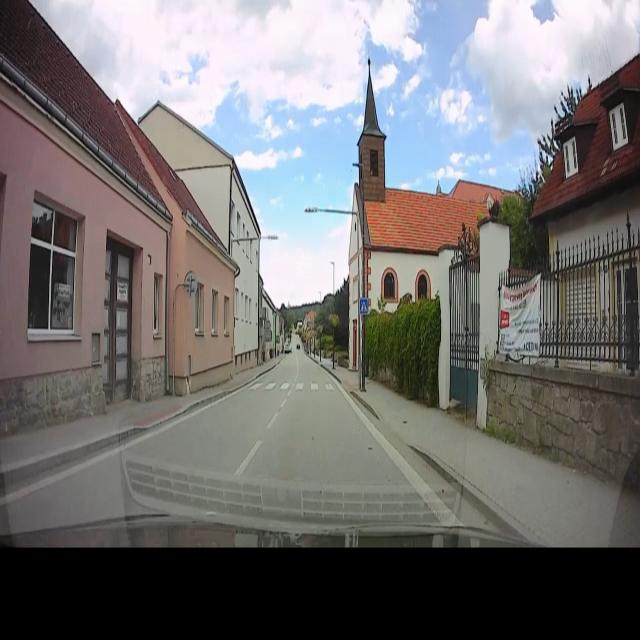Pedestrian crosswalk: (248, 378, 340, 391), (358, 294, 371, 320)
